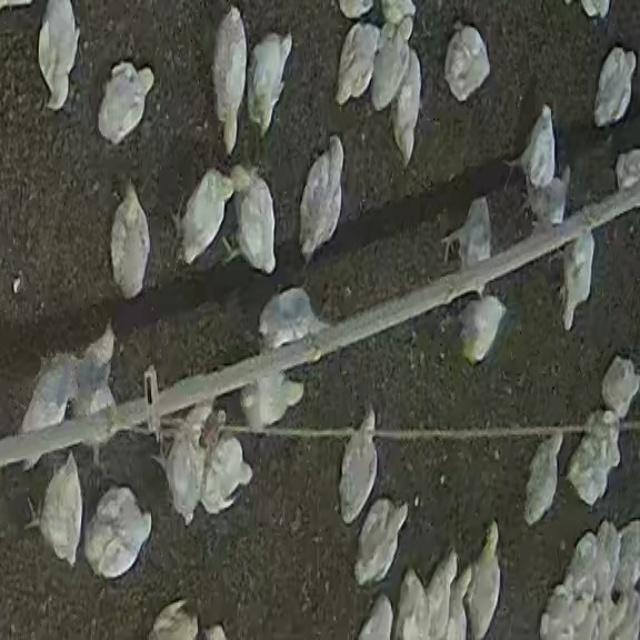chicken: (17, 352, 78, 472), (83, 483, 152, 579), (153, 412, 208, 526), (31, 452, 85, 565), (298, 136, 343, 264), (178, 166, 235, 265), (338, 403, 383, 523), (208, 8, 246, 150), (94, 60, 157, 142), (566, 412, 620, 507), (246, 32, 293, 138), (108, 180, 150, 298), (199, 428, 254, 518), (510, 102, 557, 200), (38, 1, 80, 110), (355, 497, 407, 585), (236, 170, 279, 276), (80, 320, 120, 432), (256, 283, 321, 350), (464, 524, 502, 638), (444, 194, 494, 277), (238, 369, 302, 432), (559, 224, 596, 331), (369, 21, 412, 113), (336, 22, 382, 105), (525, 432, 564, 526), (456, 294, 508, 364), (592, 47, 637, 127), (442, 30, 493, 99), (392, 53, 421, 166), (527, 164, 570, 232), (600, 356, 640, 419), (597, 521, 619, 600), (616, 523, 640, 593), (571, 537, 598, 595)
